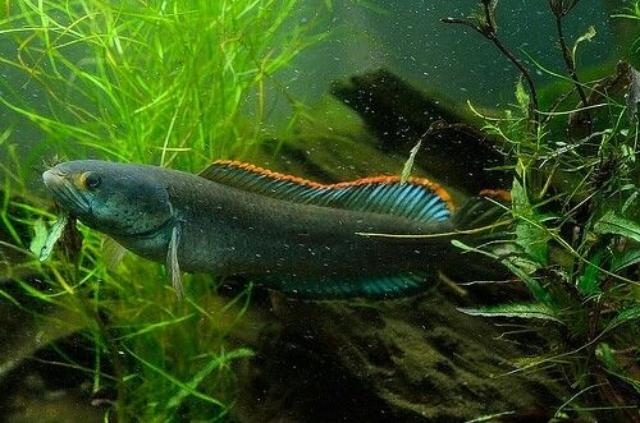Mulut: (36, 166, 106, 226)
Sirip Anal: (258, 265, 454, 307)
Sirip Dada: (157, 217, 197, 307), (95, 230, 132, 280)
Sirip Ekor: (452, 186, 542, 300)
Sirip Punggung: (198, 147, 454, 227)
